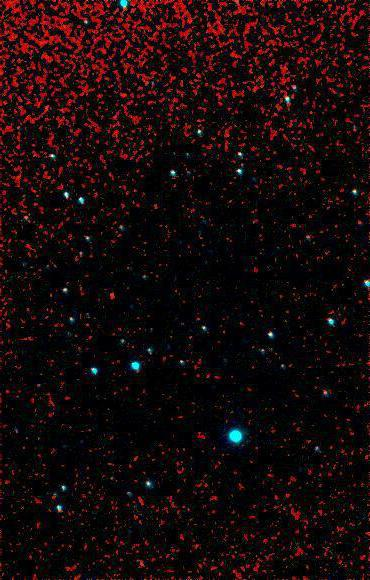star: (99, 282, 129, 312)
